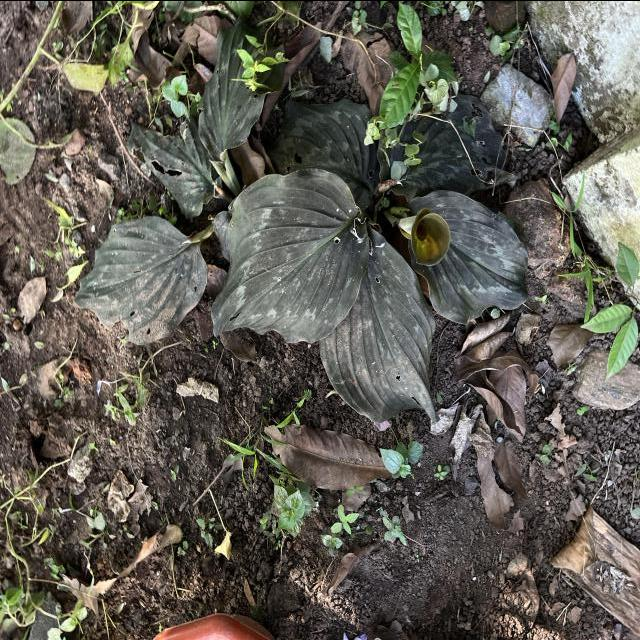Kaempferia galanga linn: (208, 164, 371, 345), (317, 220, 443, 426), (404, 188, 532, 326)
